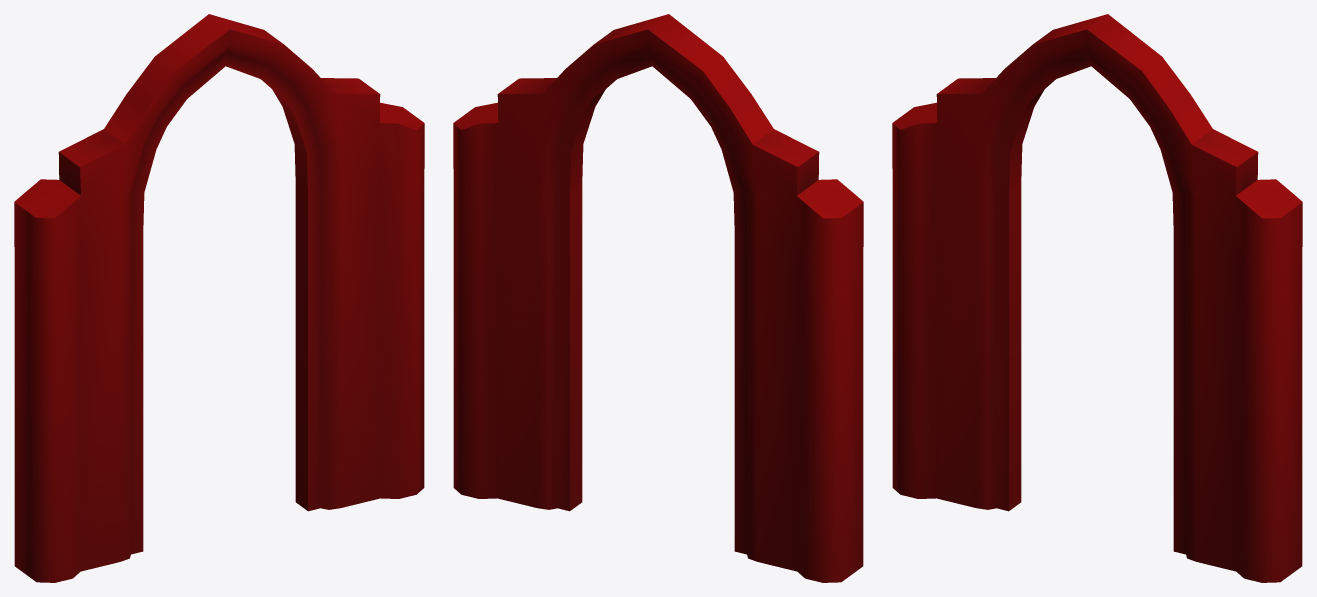
The model's file is buildings-ruins-cathedralruins_v3.fbx.
3 views of the same model, side by side, from view 1: azimuth 30°, elevation 25°; view 2: azimuth 150°, elevation 25°; view 3: azimuth 330°, elevation 25° (orthographic).
Parts seen in each view (by area): view 1: CathedralRuins_v3; view 2: CathedralRuins_v3; view 3: CathedralRuins_v3.
Boxes of the visible parts, <box> form: CathedralRuins_v3: <box>14,14,424,582</box>; CathedralRuins_v3: <box>453,14,863,582</box>; CathedralRuins_v3: <box>892,14,1302,582</box>.
Bounding box in the file's own units: 10.64 × 13.22 × 1.54.
